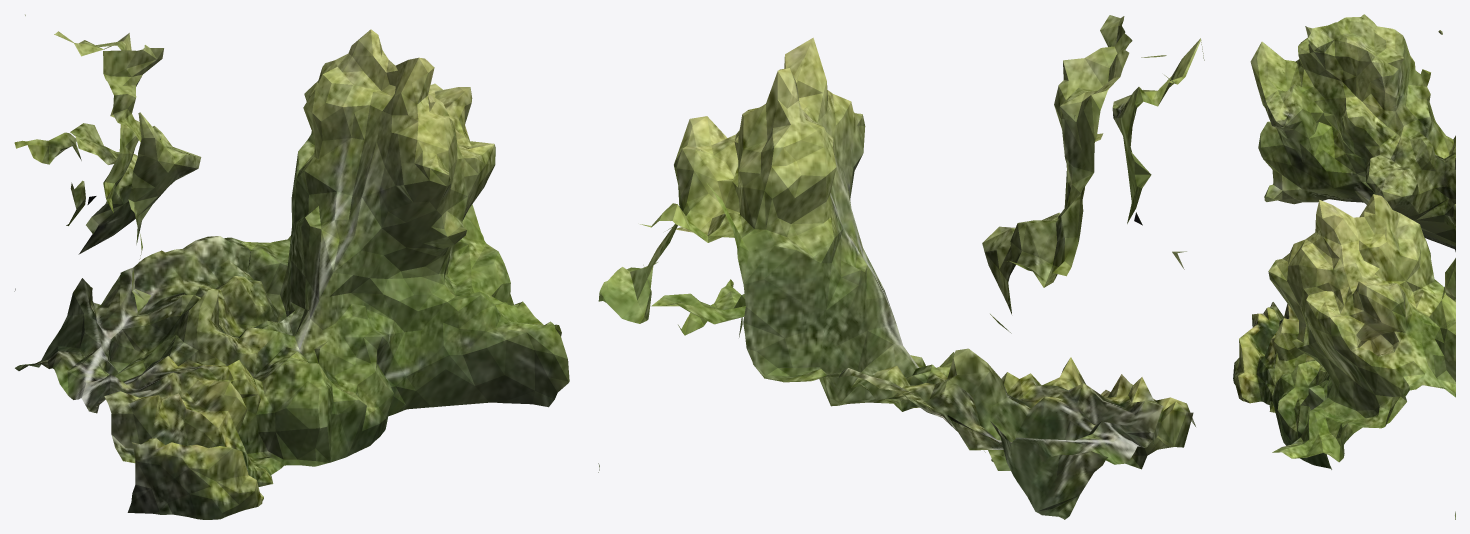
The picture shows the model from 3 angles, left to right: view 1: azimuth 30°, elevation 25°; view 2: azimuth 150°, elevation 25°; view 3: azimuth 270°, elevation 25°; orthographic projection. The views are drawn at different scales.
Bounding box in the file's own units: 5.9 × 5.9 × 3.45.
4 materials, 4 textured.
